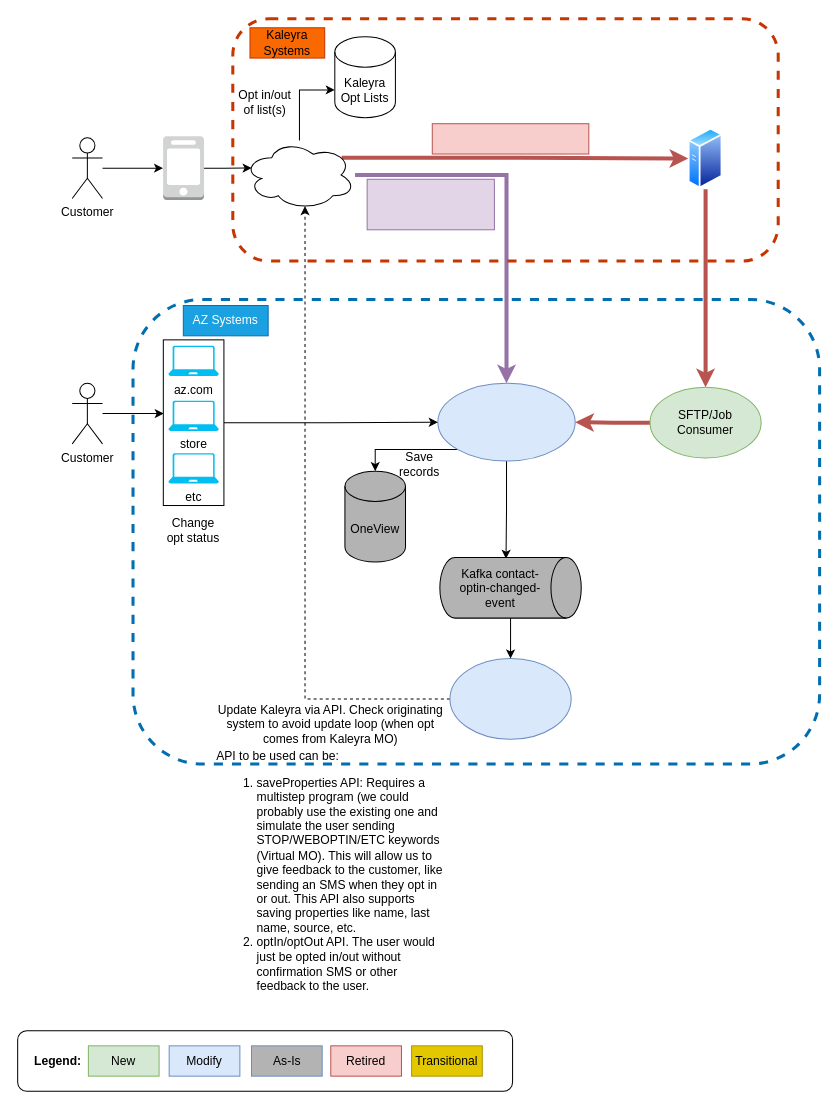
This 838x1109 diagram has some shape labels left out. The centre of each missing label's shape, as x and y in pixels:
Customer event consumer (PCF): (x=510, y=698)
Customer Optin Service (v1/optins/): (x=506, y=421)
Kaleyra: (x=299, y=174)
Kaleyra SFTP server: (x=705, y=158)
Kaleyra to AZ Option 1: "Realtime" External API call to AZ: (x=430, y=204)
Kaleyra to AZ Option 2: Use SFTP solution: (x=510, y=138)
Text STOP = Opt-out or AUTO = Opt-in: (x=183, y=167)
